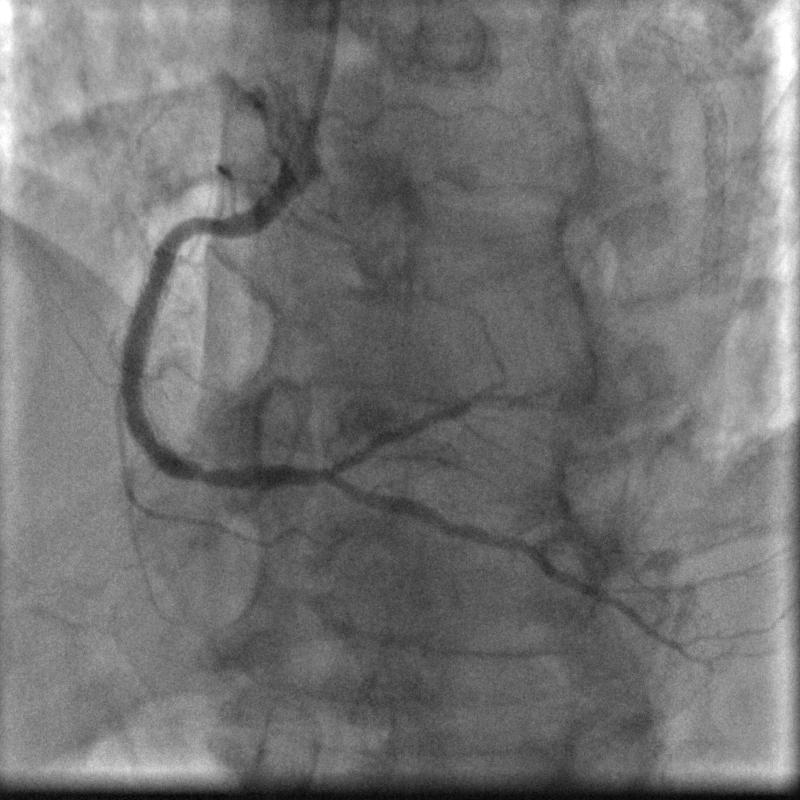Stenosis: (179, 207, 227, 243)
